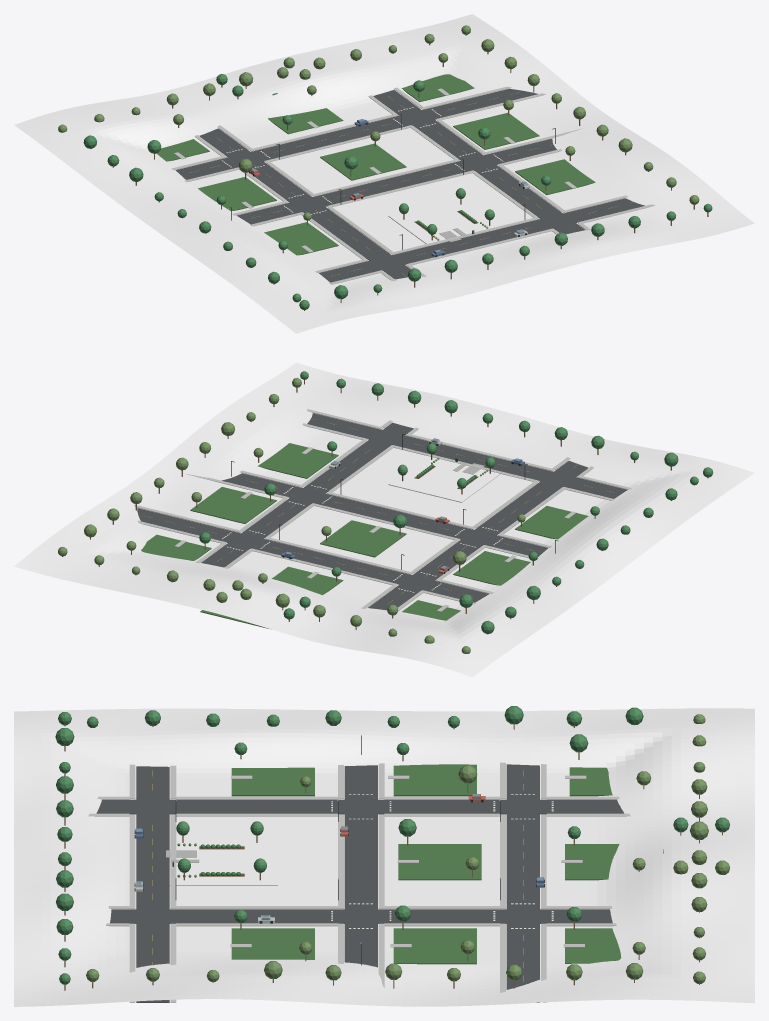
The model's file is community-environment.glb.
3 renders of one model, top to bottom at view 1: azimuth 30°, elevation 25°; view 2: azimuth 150°, elevation 25°; view 3: azimuth 270°, elevation 25°, orthographic. The views are drawn at different scales.
Parts seen in each view (by area): view 1: COMMUNITY_World_Terrain, COMMUNITY_Road_H_2, COMMUNITY_Road_V_1, COMMUNITY_Road_H_1, COMMUNITY_Road_H_0, COMMUNITY_Road_V_0, SITE_Grass_Lot, COMMUNITY_House_4_Lot, COMMUNITY_House_3_Lot, COMMUNITY_House_1_Lot, COMMUNITY_House_2_Lot, COMMUNITY_House_0_Lot (+3 smaller); view 2: COMMUNITY_World_Terrain, COMMUNITY_Road_H_2, COMMUNITY_Road_V_0, COMMUNITY_Road_H_0, COMMUNITY_Road_V_1, COMMUNITY_Road_H_1, SITE_Grass_Lot, COMMUNITY_House_3_Lot, COMMUNITY_House_4_Lot, COMMUNITY_House_1_Lot, COMMUNITY_House_2_Lot, COMMUNITY_House_0_Lot (+3 smaller); view 3: COMMUNITY_World_Terrain, COMMUNITY_Road_H_2, COMMUNITY_Road_H_0, COMMUNITY_Road_H_1, COMMUNITY_Road_V_0, COMMUNITY_Road_V_1, SITE_Grass_Lot, COMMUNITY_House_3_Lot, COMMUNITY_House_4_Lot, COMMUNITY_House_1_Lot, COMMUNITY_House_2_Lot, COMMUNITY_House_0_Lot (+12 smaller).
Boxes of the visible parts, <box> form: COMMUNITY_World_Terrain: <box>14,14,754,333</box>; COMMUNITY_Road_H_2: <box>175,88,537,179</box>; COMMUNITY_Road_V_1: <box>373,90,585,234</box>; COMMUNITY_Road_H_1: <box>237,138,556,224</box>; COMMUNITY_Road_H_0: <box>319,198,644,282</box>; COMMUNITY_Road_V_0: <box>199,128,410,279</box>; SITE_Grass_Lot: <box>388,198,502,245</box>; COMMUNITY_House_4_Lot: <box>453,112,539,149</box>; COMMUNITY_House_3_Lot: <box>320,143,406,180</box>; COMMUNITY_House_1_Lot: <box>515,159,595,194</box>; COMMUNITY_House_2_Lot: <box>198,177,276,210</box>; COMMUNITY_House_0_Lot: <box>264,222,338,255</box>; COMMUNITY_World_Terrain: <box>14,362,754,677</box>; COMMUNITY_Road_H_2: <box>137,508,488,602</box>; COMMUNITY_Road_V_0: <box>368,461,588,610</box>; COMMUNITY_Road_H_0: <box>307,413,627,498</box>; COMMUNITY_Road_V_1: <box>201,422,413,567</box>; COMMUNITY_Road_H_1: <box>222,473,547,556</box>; SITE_Grass_Lot: <box>388,456,500,502</box>; COMMUNITY_House_3_Lot: <box>320,520,406,557</box>; COMMUNITY_House_4_Lot: <box>190,487,276,523</box>; COMMUNITY_House_1_Lot: <box>257,443,338,478</box>; COMMUNITY_House_2_Lot: <box>453,551,530,585</box>; COMMUNITY_House_0_Lot: <box>515,506,588,539</box>; COMMUNITY_World_Terrain: <box>14,708,754,1006</box>; COMMUNITY_Road_H_2: <box>506,764,539,1002</box>; COMMUNITY_Road_H_0: <box>136,766,169,1002</box>; COMMUNITY_Road_H_1: <box>344,765,377,967</box>; COMMUNITY_Road_V_0: <box>96,799,624,814</box>; COMMUNITY_Road_V_1: <box>110,909,612,923</box>; SITE_Grass_Lot: <box>169,838,277,885</box>; COMMUNITY_House_3_Lot: <box>398,844,481,880</box>; COMMUNITY_House_4_Lot: <box>393,928,476,964</box>; COMMUNITY_House_1_Lot: <box>231,928,314,959</box>; COMMUNITY_House_2_Lot: <box>393,764,476,796</box>; COMMUNITY_House_0_Lot: <box>231,767,314,796</box>.
Size of the model in its own units: 150 by 7.12 by 160.
